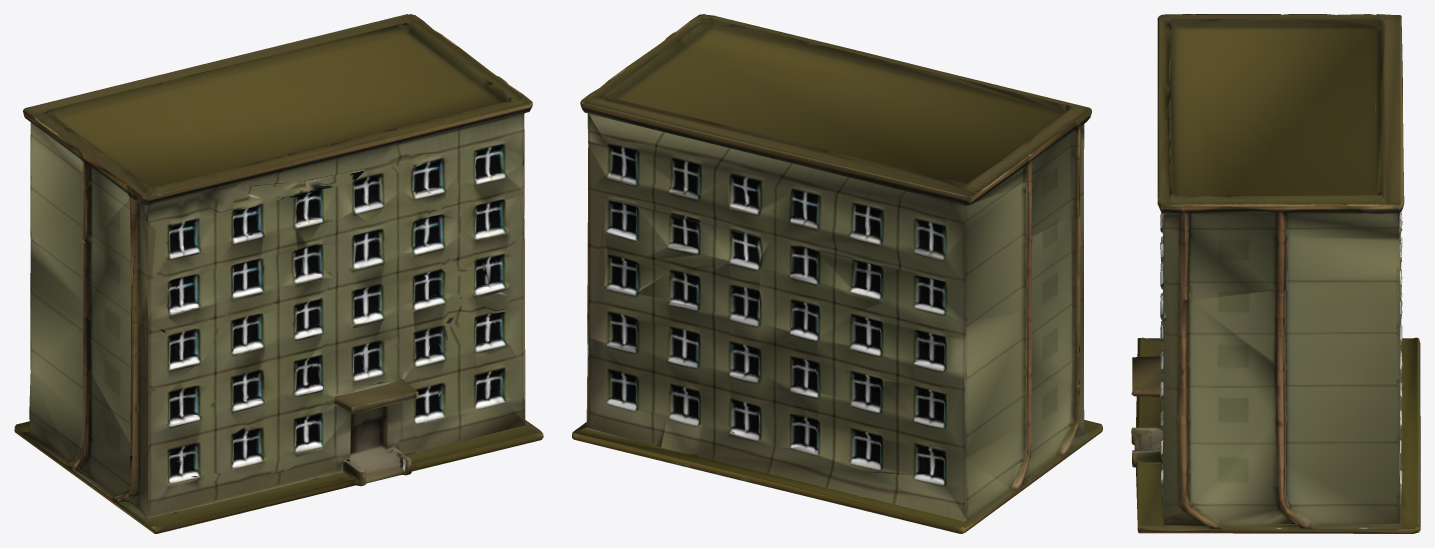
File: house2.fbx
The picture shows the model from 3 angles, left to right: view 1: azimuth 30°, elevation 25°; view 2: azimuth 150°, elevation 25°; view 3: azimuth 270°, elevation 25°; orthographic projection.
Visible parts, largest first — view 1: tmpzfkv36cq.ply; view 2: tmpzfkv36cq.ply; view 3: tmpzfkv36cq.ply.
Part boxes in pixels (box(x1,y1,x2,y2)): tmpzfkv36cq.ply: box(14, 14, 543, 533); tmpzfkv36cq.ply: box(572, 14, 1102, 533); tmpzfkv36cq.ply: box(1131, 14, 1420, 533).
Size of the model in its own units: 199 by 161 by 127.
1 material, 1 textured.
